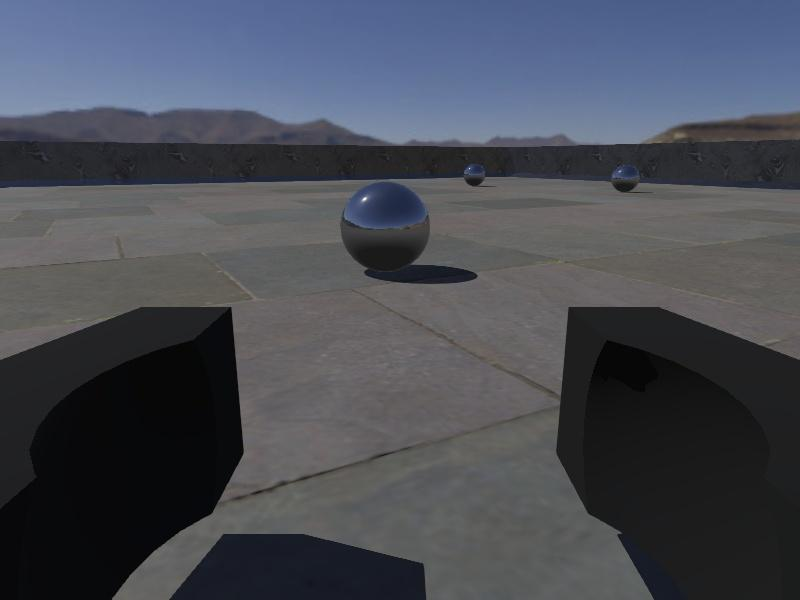steel ball: (340, 181, 432, 275), (611, 164, 641, 194), (462, 162, 486, 187)
